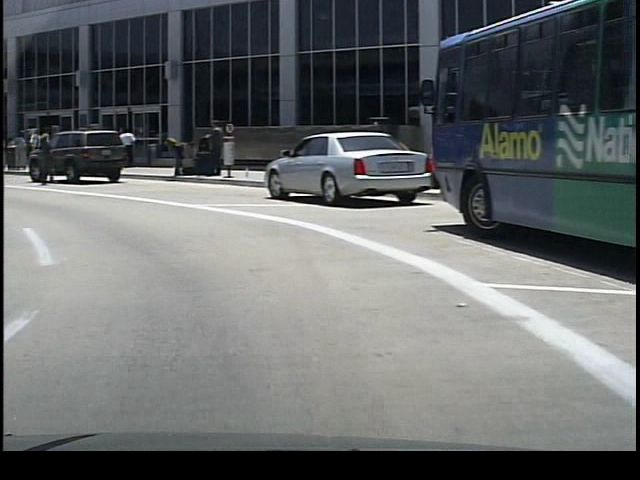person: (32, 117, 61, 193), (162, 130, 191, 184), (200, 120, 220, 178), (114, 126, 135, 169)
